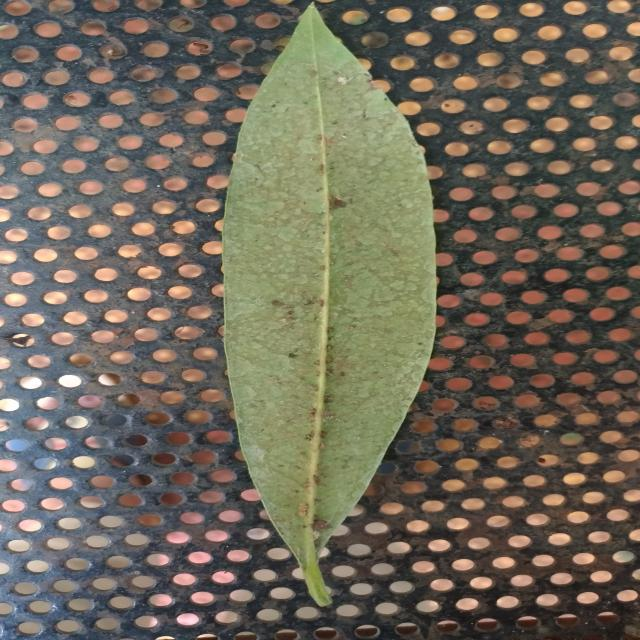nerale: (222, 5, 435, 606)
